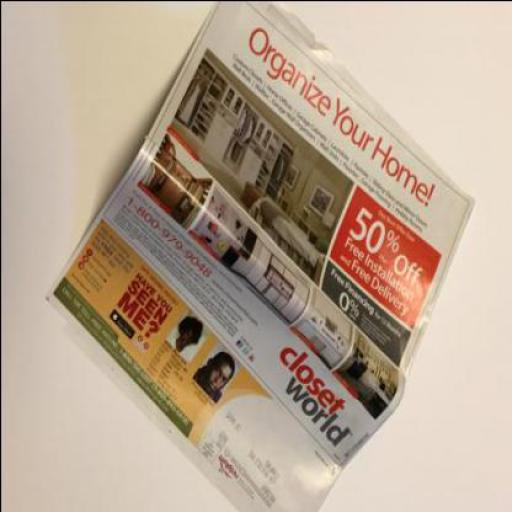paper: (44, 1, 479, 511)
